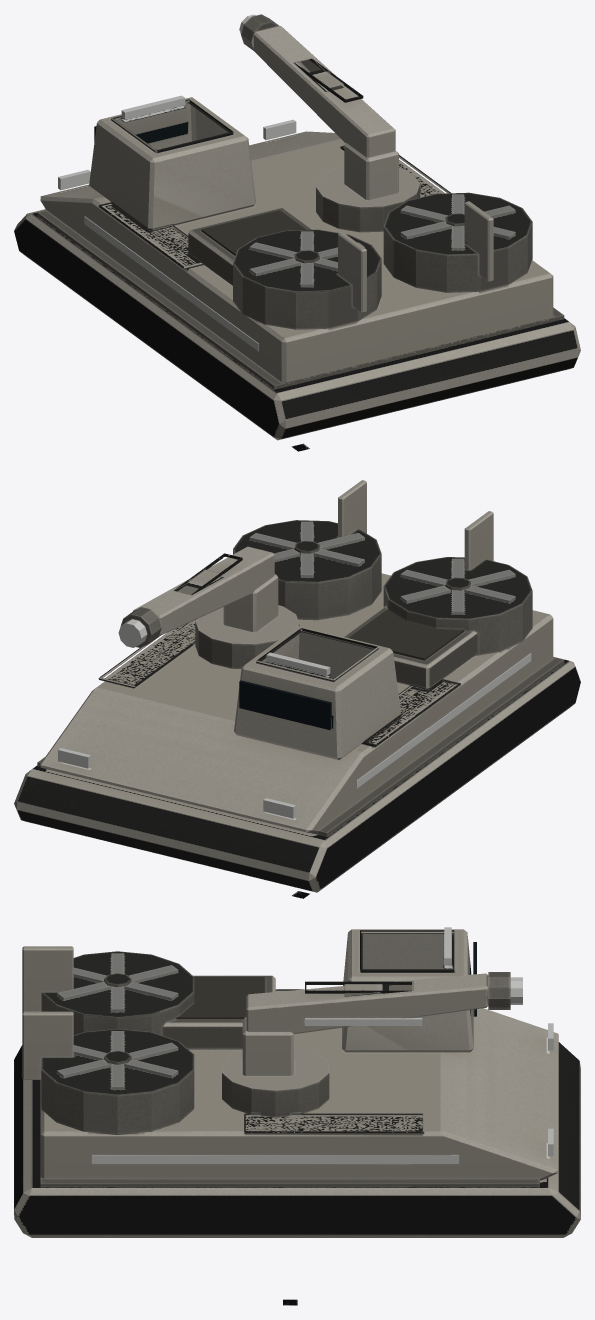
Rendered from ord_skimwright.fbx.
3 renders of one model, top to bottom at view 1: azimuth 30°, elevation 25°; view 2: azimuth 150°, elevation 25°; view 3: azimuth 270°, elevation 25°, orthographic. The views are drawn at different scales.
Visible parts, largest first — view 1: base_bar, nano_bar, fan2_bar, fan1_bar, base_glow_head_bar, base_glow_running_bar; view 2: base_bar, nano_bar, fan1_bar, fan2_bar, base_glow_head_bar, base_glow_running_bar, nano_glow_power_bar; view 3: base_bar, nano_bar, base_glow_running_bar, fan1_bar, fan2_bar, nano_glow_running_bar, base_glow_head_bar.
Boxes of the visible parts, x1,y1,x2,y2 form: base_bar: (14,97,580,440); nano_bar: (241,14,420,232); fan2_bar: (400,194,515,250); fan1_bar: (249,231,364,287); base_glow_head_bar: (58,95,296,190); base_glow_running_bar: (84,216,258,351); base_bar: (14,480,580,892); nano_bar: (120,546,299,668); fan1_bar: (400,558,515,614); fan2_bar: (249,521,364,577); base_glow_head_bar: (58,652,330,818); base_glow_running_bar: (356,653,531,788); nano_glow_power_bar: (118,619,147,647); base_bar: (14,929,580,1237); nano_bar: (222,972,510,1117); base_glow_running_bar: (92,1155,458,1163); fan1_bar: (57,953,178,1012); fan2_bar: (57,1031,178,1089); nano_glow_running_bar: (305,1018,422,1025); base_glow_head_bar: (444,927,553,1156).
Size of the model in its own units: 500 by 540 by 772.
Materials: 2 (2 with a texture image).
